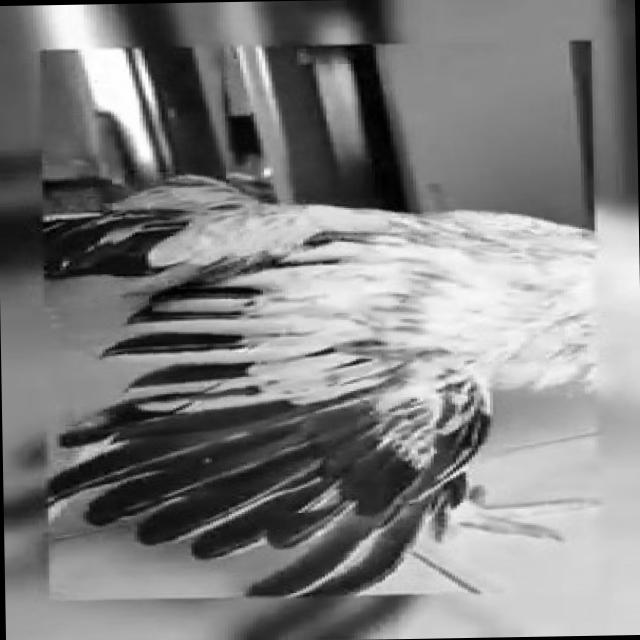wingstretching: (0, 152, 640, 590)
